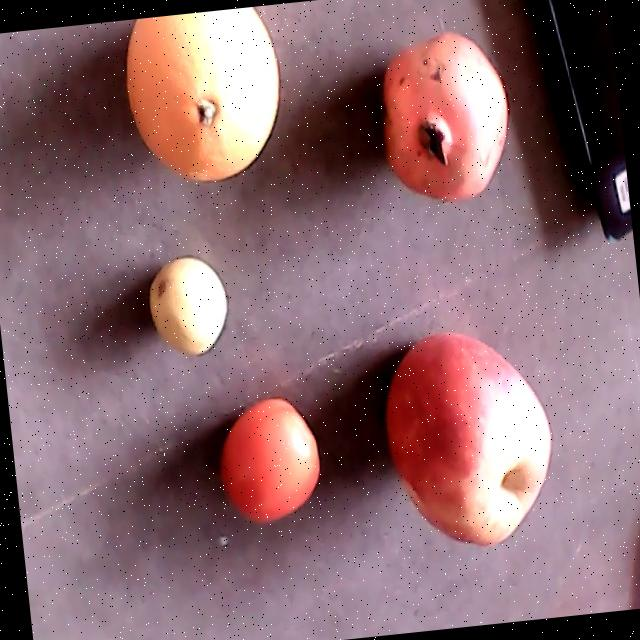apple: (385, 332, 551, 545)
lemon: (147, 255, 226, 355)
orange: (125, 7, 278, 181)
pomegranate: (381, 30, 507, 201)
tomato: (219, 396, 320, 522)
